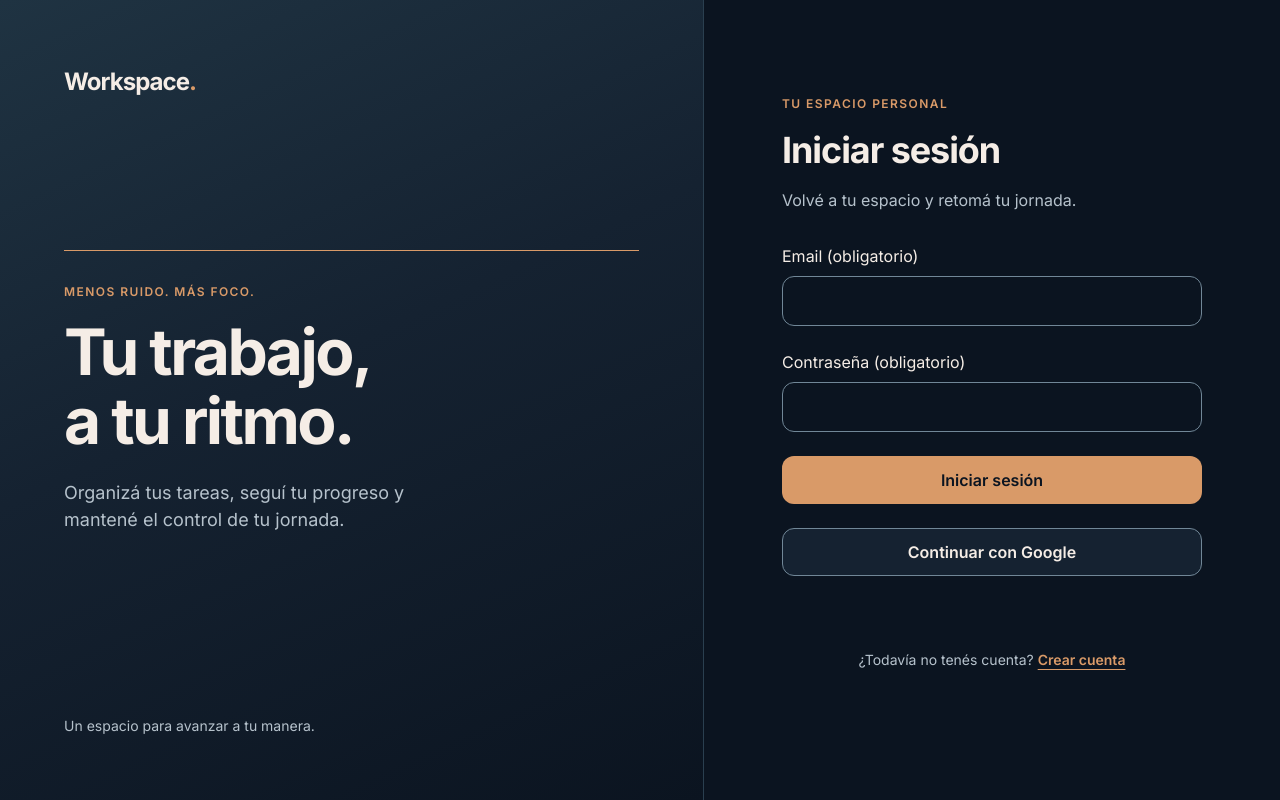
Test: Sesión y rutas › explica auth/account-exists-with-different-credential y vuelve a habilitar ambos métodos
Click the button "Continuar con Google": (992, 552) [782,528,1202,576]
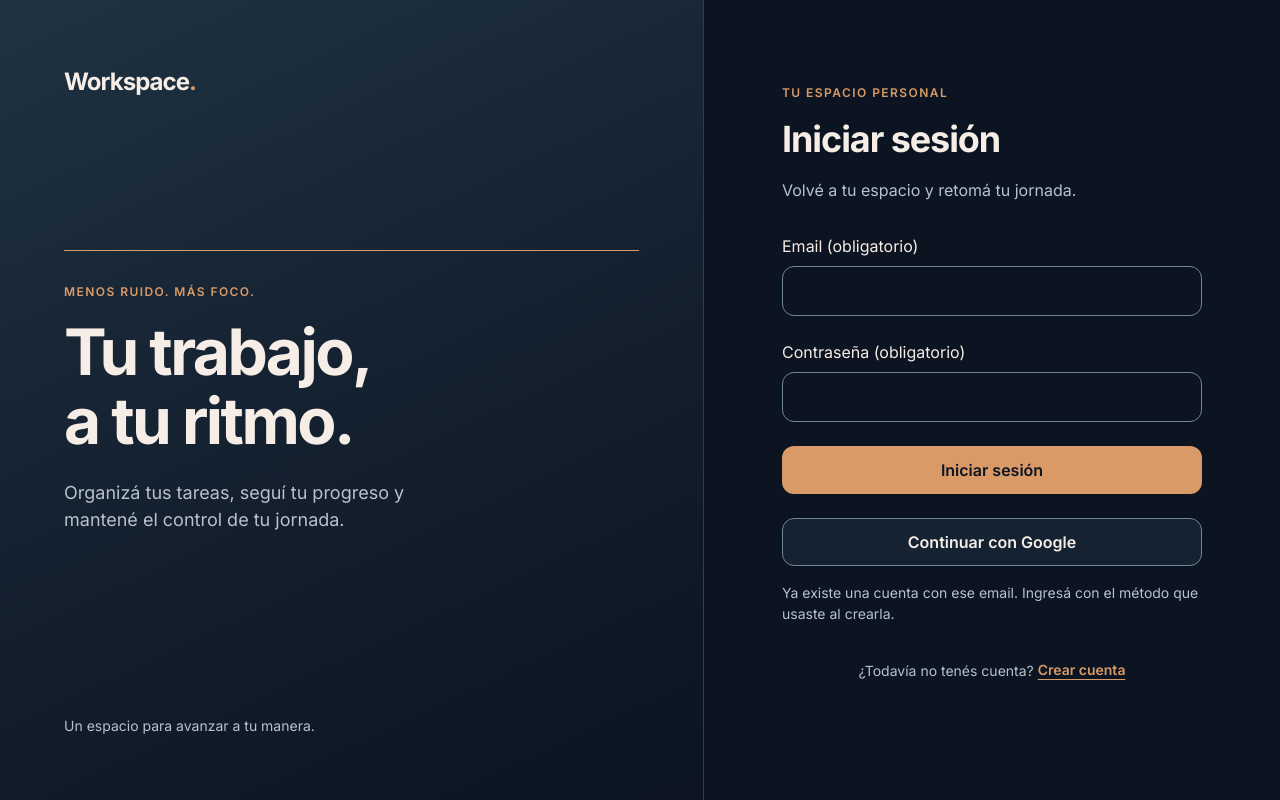
expect the message does not show "auth/account-exists-with-different-credential": met, box [782,582,1202,624]
expect the message shows "Ya existe una cuenta con ese email": met, box [782,584,1198,622]
